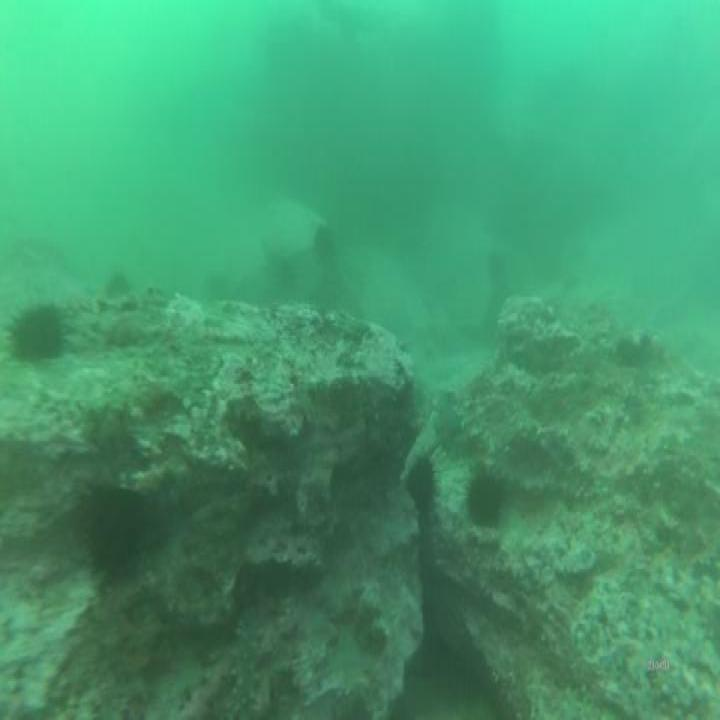echinus: (83, 484, 144, 576), (10, 308, 61, 362), (468, 473, 502, 528), (407, 461, 435, 509)
holothurian: (232, 612, 260, 714)
